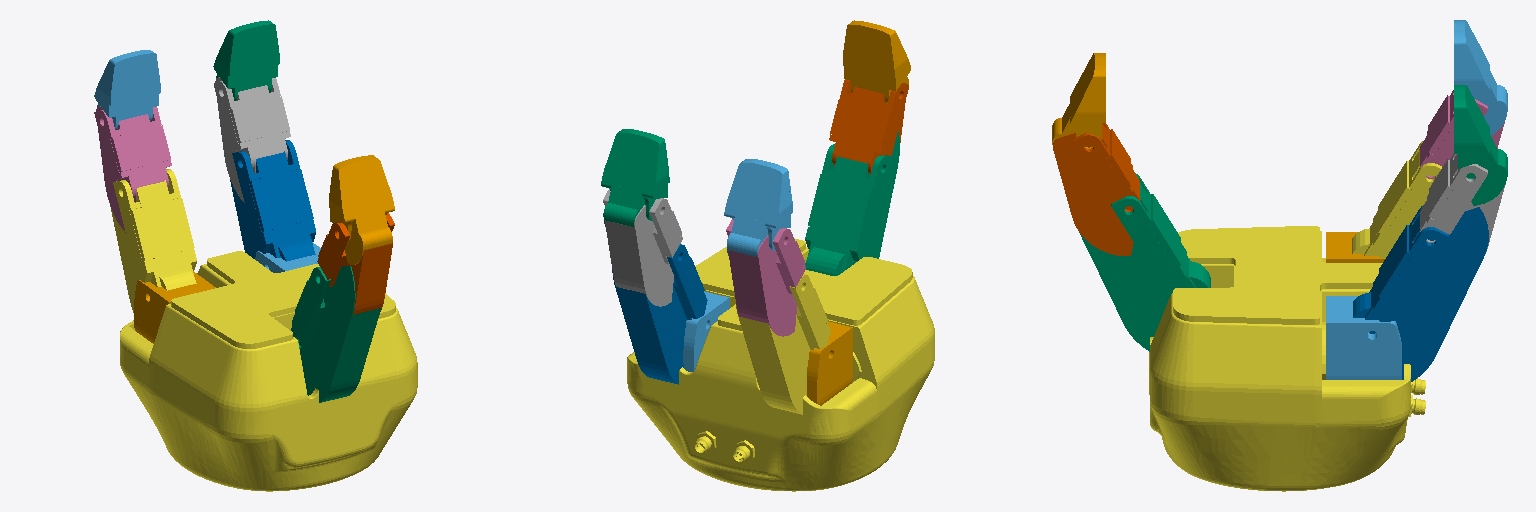
URDF robot description (robotiq_3finger_flat):
<?xml version="1.0"?>
<robot name="robotiq_3finger_flat">
  <joint name="root_joint" type="fixed">
    <origin xyz="0. 0. -0.08" rpy="1.57 0.  -1.57"/>
    <parent link="RobotIQ"/>
    <child link="RIQ_palm"/>
  </joint>
  <joint name="RIQ_link_0_RIQ_link_1_joint_b" type="revolute">
    <origin xyz="-0.00397 0.021877 0. " rpy="1.5707964 1.5707964 0. "/>
    <parent link="RIQ_link_0_joint_b"/>
    <child link="RIQ_link_1_joint_b"/>
    <axis xyz="1. 0. 0."/>
    <limit lower="-0.0940732" upper="1.1276571" effort="0.773" velocity="0.2617994"/>
  </joint>
  <joint name="RIQ_link_0_RIQ_link_1_joint_c" type="revolute">
    <origin xyz="-0.00397 0.021877 0. " rpy="1.5707964 1.5707964 0. "/>
    <parent link="RIQ_link_0_joint_c"/>
    <child link="RIQ_link_1_joint_c"/>
    <axis xyz="1. 0. 0."/>
    <limit lower="-0.0940732" upper="1.1276571" effort="0.773" velocity="0.2617994"/>
  </joint>
  <joint name="RIQ_link_1_RIQ_link_2_joint_a" type="revolute">
    <origin xyz="0. -0.0282374 -0.0496867" rpy="-0.5167919 0. 0. "/>
    <parent link="RIQ_link_1_joint_a"/>
    <child link="RIQ_link_2_joint_a"/>
    <axis xyz="1. 0. 0."/>
    <limit lower="0." upper="1.5707963" effort="0.387" velocity="0.2617994"/>
  </joint>
  <joint name="RIQ_link_1_RIQ_link_2_joint_b" type="revolute">
    <origin xyz="0. -0.0282374 -0.0496867" rpy="-0.5167919 0. 0. "/>
    <parent link="RIQ_link_1_joint_b"/>
    <child link="RIQ_link_2_joint_b"/>
    <axis xyz="1. 0. 0."/>
    <limit lower="0." upper="1.5707963" effort="0.387" velocity="0.2617994"/>
  </joint>
  <joint name="RIQ_link_1_RIQ_link_2_joint_c" type="revolute">
    <origin xyz="0. -0.0282374 -0.0496867" rpy="-0.5167919 0. 0. "/>
    <parent link="RIQ_link_1_joint_c"/>
    <child link="RIQ_link_2_joint_c"/>
    <axis xyz="1. 0. 0."/>
    <limit lower="0." upper="1.5707963" effort="0.387" velocity="0.2617994"/>
  </joint>
  <joint name="RIQ_link_2_RIQ_link_3_joint_a" type="revolute">
    <origin xyz="0. 0. -0.03894" rpy="0. 0. 0."/>
    <parent link="RIQ_link_2_joint_a"/>
    <child link="RIQ_link_3_joint_a"/>
    <axis xyz="1. 0. 0."/>
    <limit lower="-0.9531242" upper="0.7572983" effort="2.5" velocity="0.2617994"/>
  </joint>
  <joint name="RIQ_link_2_RIQ_link_3_joint_b" type="revolute">
    <origin xyz="0. 0. -0.03894" rpy="0. 0. 0."/>
    <parent link="RIQ_link_2_joint_b"/>
    <child link="RIQ_link_3_joint_b"/>
    <axis xyz="1. 0. 0."/>
    <limit lower="-0.9531242" upper="0.7572983" effort="2.5" velocity="0.2617994"/>
  </joint>
  <joint name="RIQ_link_2_RIQ_link_3_joint_c" type="revolute">
    <origin xyz="0. 0. -0.03894" rpy="0. 0. 0."/>
    <parent link="RIQ_link_2_joint_c"/>
    <child link="RIQ_link_3_joint_c"/>
    <axis xyz="1. 0. 0."/>
    <limit lower="-0.9531242" upper="0.7572983" effort="2.5" velocity="0.2617994"/>
  </joint>
  <joint name="RIQ_palm_RIQ_link_0_joint" type="revolute">
    <origin xyz="-0.040507 0.019844 -0.036513" rpy="0. 0. 0."/>
    <parent link="RIQ_palm"/>
    <child link="RIQ_link_0_joint_c"/>
    <axis xyz="1. 0. 0."/>
    <limit lower="-0.2967059" upper="0.2967059" effort="2.5" velocity="0.2617994"/>
  </joint>
  <joint name="RIQ_palm_RIQ_link_0_joint_b" type="revolute">
    <origin xyz="-0.040507 0.019844 0.036513" rpy="0. 0. 0."/>
    <parent link="RIQ_palm"/>
    <child link="RIQ_link_0_joint_b"/>
    <axis xyz="1. 0. 0."/>
    <limit lower="-0.2967059" upper="0.2967059" effort="2.5" velocity="0.2617994"/>
  </joint>
  <joint name="RIQ_palm_RIQ_link_1_joint_a" type="revolute">
    <origin xyz="0.044475 0.041358 0. " rpy="1.5707964 -1.5707964 0. "/>
    <parent link="RIQ_palm"/>
    <child link="RIQ_link_1_joint_a"/>
    <axis xyz="1. 0. 0."/>
    <limit lower="-0.0940732" upper="1.1276571" effort="0.773" velocity="0.2617994"/>
  </joint>



  <link name="RIQ_link_0_joint_b">
    <visual>
      <origin xyz="-0.00397 0.021877 0. " rpy="-3.1415925 -0. 1.5707963"/>
      <geometry>
        <mesh filename="meshes/RIQ_link_0_joint_b_visuals_mesh_0.obj" scale="1 1 1"/>
      </geometry>
    </visual>
    <collision>
      <origin xyz="-0.00397 0.021877 0. " rpy="-3.1415925 -0. 1.5707963"/>
      <geometry>
        <mesh filename="meshes/hull_RIQ_link_0_joint_b_mesh_0.obj" scale="1 1 1"/>
      </geometry>
    </collision>
  </link>

  <link name="RIQ_link_0_joint_c">
    <visual>
      <origin xyz="-0.00397 0.021877 0. " rpy="-3.1415925 -0. 1.5707963"/>
      <geometry>
        <mesh filename="meshes/RIQ_link_0_joint_b_visuals_mesh_0.obj" scale="1 1 1"/>
      </geometry>
    </visual>
    <collision>
      <origin xyz="-0.00397 0.021877 0. " rpy="-3.1415925 -0. 1.5707963"/>
      <geometry>
        <mesh filename="meshes/hull_RIQ_link_0_joint_b_mesh_0.obj" scale="1 1 1"/>
      </geometry>
    </collision>
  </link>

  <link name="RIQ_link_1_joint_a">
    <visual>
      <origin xyz="0. -0.0282374 -0.0496867" rpy="-1.5707964 1.0540044 -1.5707964"/>
      <geometry>
        <mesh filename="meshes/RIQ_link_1_joint_a_visuals_mesh_0.obj" scale="1 1 1"/>
      </geometry>
    </visual>
    <collision>
      <origin xyz="0. -0.0282374 -0.0496867" rpy="-1.5707964 1.0540044 -1.5707964"/>
      <geometry>
        <mesh filename="meshes/hull_RIQ_link_1_joint_a_mesh_0.obj" scale="1 1 1"/>
      </geometry>
    </collision>
  </link>

  <link name="RIQ_link_1_joint_b">
    <visual>
      <origin xyz="0. -0.0282374 -0.0496867" rpy="-1.5707964 1.0540044 -1.5707964"/>
      <geometry>
        <mesh filename="meshes/RIQ_link_1_joint_a_visuals_mesh_0.obj" scale="1 1 1"/>
      </geometry>
    </visual>
    <collision>
      <origin xyz="0. -0.0282374 -0.0496867" rpy="-1.5707964 1.0540044 -1.5707964"/>
      <geometry>
        <mesh filename="meshes/hull_RIQ_link_1_joint_a_mesh_0.obj" scale="1 1 1"/>
      </geometry>
    </collision>
  </link>

  <link name="RIQ_link_1_joint_c">
    <visual>
      <origin xyz="0. -0.0282374 -0.0496867" rpy="-1.5707964 1.0540044 -1.5707964"/>
      <geometry>
        <mesh filename="meshes/RIQ_link_1_joint_a_visuals_mesh_0.obj" scale="1 1 1"/>
      </geometry>
    </visual>
    <collision>
      <origin xyz="0. -0.0282374 -0.0496867" rpy="-1.5707964 1.0540044 -1.5707964"/>
      <geometry>
        <mesh filename="meshes/hull_RIQ_link_1_joint_a_mesh_0.obj" scale="1 1 1"/>
      </geometry>
    </collision>
  </link>
  <link name="RIQ_link_2_joint_a">
    <visual>
      <origin xyz="0.0075 0. -0.03894" rpy="0. 1.5707963 0. "/>
      <geometry>
        <mesh filename="meshes/RIQ_link_2_joint_a_visuals_mesh_0.obj" scale="1 1 1"/>
      </geometry>
    </visual>
    <collision>
      <origin xyz="0.0075 0. -0.03894" rpy="0. 1.5707963 0. "/>
      <geometry>
        <mesh filename="meshes/hull_RIQ_link_2_joint_a_mesh_0.obj" scale="1 1 1"/>
      </geometry>
    </collision>
  </link>
  <link name="RIQ_link_2_joint_b">
    <visual>
      <origin xyz="0.0075 0. -0.03894" rpy="0. 1.5707963 0. "/>
      <geometry>
        <mesh filename="meshes/RIQ_link_2_joint_a_visuals_mesh_0.obj" scale="1 1 1"/>
      </geometry>
    </visual>
    <collision>
      <origin xyz="0.0075 0. -0.03894" rpy="0. 1.5707963 0. "/>
      <geometry>
        <mesh filename="meshes/hull_RIQ_link_2_joint_a_mesh_0.obj" scale="1 1 1"/>
      </geometry>
    </collision>
  </link>
  <link name="RIQ_link_2_joint_c">
    <visual>
      <origin xyz="0.0075 0. -0.03894" rpy="0. 1.5707963 0. "/>
      <geometry>
        <mesh filename="meshes/RIQ_link_2_joint_a_visuals_mesh_0.obj" scale="1 1 1"/>
      </geometry>
    </visual>
    <collision>
      <origin xyz="0.0075 0. -0.03894" rpy="0. 1.5707963 0. "/>
      <geometry>
        <mesh filename="meshes/hull_RIQ_link_2_joint_a_mesh_0.obj" scale="1 1 1"/>
      </geometry>
    </collision>
  </link>
  <link name="RIQ_link_3_joint_a">
    <visual>
      <origin xyz="0. 0. 0." rpy="1.5707964 1.0540044 1.5707964"/>
      <geometry>
        <mesh filename="meshes/RIQ_link_3_joint_a_visuals_mesh_0.obj" scale="1 1 1"/>
      </geometry>
    </visual>
    <collision>
      <origin xyz="0. 0. 0." rpy="1.5707964 1.0540044 1.5707964"/>
      <geometry>
        <mesh filename="meshes/hull_RIQ_link_3_joint_a_mesh_0.obj" scale="1 1 1"/>
      </geometry>
    </collision>
  </link>
  <link name="RIQ_link_3_joint_b">
    <visual>
      <origin xyz="0. 0. 0." rpy="1.5707964 1.0540044 1.5707964"/>
      <geometry>
        <mesh filename="meshes/RIQ_link_3_joint_a_visuals_mesh_0.obj" scale="1 1 1"/>
      </geometry>
    </visual>
    <collision>
      <origin xyz="0. 0. 0." rpy="1.5707964 1.0540044 1.5707964"/>
      <geometry>
        <mesh filename="meshes/hull_RIQ_link_3_joint_a_mesh_0.obj" scale="1 1 1"/>
      </geometry>
    </collision>
  </link>
  <link name="RIQ_link_3_joint_c">
    <visual>
      <origin xyz="0. 0. 0." rpy="1.5707964 1.0540044 1.5707964"/>
      <geometry>
        <mesh filename="meshes/RIQ_link_3_joint_a_visuals_mesh_0.obj" scale="1 1 1"/>
      </geometry>
    </visual>
    <collision>
      <origin xyz="0. 0. 0." rpy="1.5707964 1.0540044 1.5707964"/>
      <geometry>
        <mesh filename="meshes/hull_RIQ_link_3_joint_a_mesh_0.obj" scale="1 1 1"/>
      </geometry>
    </collision>
  </link>
  <link name="RIQ_palm">
    <inertial>
      <origin xyz="0. 0. 0." rpy="0. 0. 0."/>
      <mass value="0.02"/>
      <inertia ixx="0." ixy="0." ixz="0." iyy="0." iyz="0." izz="0."/>
    </inertial>
    <visual>
      <origin xyz="0. 0. 0." rpy="0. 0. 0."/>
      <geometry>
        <mesh filename="meshes/RIQ_palm_visuals_mesh_0.obj" scale="1 1 1"/>
      </geometry>
    </visual>
    <collision>
      <origin xyz="0. 0. 0." rpy="0. 0. 0."/>
      <geometry>
        <mesh filename="meshes/hull_RIQ_palm_mesh_0.obj" scale="1 1 1"/>
      </geometry>
    </collision>
  </link>
  <link name="RobotIQ"/>
</robot>

--- What the picture shows (computed from the rendered views, not written in the file) ---
3 views of the same robot in one strip: view 1: azimuth 30°, elevation 25°; view 2: azimuth 150°, elevation 25°; view 3: azimuth 270°, elevation 25° (orthographic).
Robot: robotiq_3finger_flat — 13 links, 12 joints (11 revolute, 1 fixed); root link RobotIQ; default pose: every joint at zero.
Links seen in each view (by area): view 1: RIQ_palm, RIQ_link_1_joint_a, RIQ_link_1_joint_b, RIQ_link_1_joint_c, RIQ_link_3_joint_a, RIQ_link_2_joint_b, RIQ_link_2_joint_c, RIQ_link_3_joint_b, RIQ_link_3_joint_c, RIQ_link_2_joint_a, RIQ_link_0_joint_b, RIQ_link_0_joint_c; view 2: RIQ_palm, RIQ_link_1_joint_a, RIQ_link_1_joint_b, RIQ_link_1_joint_c, RIQ_link_2_joint_c, RIQ_link_2_joint_b, RIQ_link_3_joint_b, RIQ_link_3_joint_c, RIQ_link_2_joint_a, RIQ_link_3_joint_a, RIQ_link_0_joint_b, RIQ_link_0_joint_c; view 3: RIQ_palm, RIQ_link_1_joint_c, RIQ_link_1_joint_a, RIQ_link_2_joint_a, RIQ_link_0_joint_c, RIQ_link_1_joint_b, RIQ_link_3_joint_c, RIQ_link_2_joint_c, RIQ_link_3_joint_b, RIQ_link_3_joint_a, RIQ_link_2_joint_b, RIQ_link_0_joint_b.
Link boxes in pixels (bbox=[...]): RIQ_palm: bbox=[120, 251, 417, 491]; RIQ_link_1_joint_a: bbox=[291, 266, 380, 402]; RIQ_link_1_joint_b: bbox=[110, 169, 196, 312]; RIQ_link_1_joint_c: bbox=[230, 140, 315, 261]; RIQ_link_3_joint_a: bbox=[329, 155, 394, 264]; RIQ_link_2_joint_b: bbox=[94, 106, 171, 232]; RIQ_link_2_joint_c: bbox=[214, 77, 290, 202]; RIQ_link_3_joint_b: bbox=[94, 50, 160, 129]; RIQ_link_3_joint_c: bbox=[213, 20, 279, 100]; RIQ_link_2_joint_a: bbox=[317, 213, 394, 314]; RIQ_link_0_joint_b: bbox=[134, 271, 215, 343]; RIQ_link_0_joint_c: bbox=[255, 242, 320, 272]; RIQ_palm: bbox=[627, 238, 934, 491]; RIQ_link_1_joint_a: bbox=[805, 131, 899, 275]; RIQ_link_1_joint_b: bbox=[736, 274, 830, 414]; RIQ_link_1_joint_c: bbox=[612, 244, 707, 384]; RIQ_link_2_joint_c: bbox=[603, 189, 682, 306]; RIQ_link_2_joint_b: bbox=[726, 219, 805, 336]; RIQ_link_3_joint_b: bbox=[724, 159, 792, 256]; RIQ_link_3_joint_c: bbox=[601, 129, 669, 226]; RIQ_link_2_joint_a: bbox=[829, 79, 908, 174]; RIQ_link_3_joint_a: bbox=[843, 20, 910, 103]; RIQ_link_0_joint_b: bbox=[807, 321, 852, 405]; RIQ_link_0_joint_c: bbox=[683, 291, 729, 371]; RIQ_palm: bbox=[1149, 226, 1425, 491]; RIQ_link_1_joint_c: bbox=[1353, 206, 1488, 381]; RIQ_link_1_joint_a: bbox=[1079, 173, 1210, 351]; RIQ_link_2_joint_a: bbox=[1053, 123, 1140, 255]; RIQ_link_0_joint_c: bbox=[1326, 296, 1401, 379]; RIQ_link_1_joint_b: bbox=[1352, 141, 1441, 257]; RIQ_link_3_joint_c: bbox=[1454, 85, 1507, 205]; RIQ_link_2_joint_c: bbox=[1420, 154, 1505, 251]; RIQ_link_3_joint_b: bbox=[1454, 20, 1507, 135]; RIQ_link_3_joint_a: bbox=[1052, 53, 1105, 148]; RIQ_link_2_joint_b: bbox=[1419, 90, 1504, 178]; RIQ_link_0_joint_b: bbox=[1326, 232, 1385, 262].
Size in the robot's own frame: 0.1302 by 0.2194 by 0.2174 metres.
Meshes: 5 distinct files referenced, 12 mesh visuals loaded (5 OBJ).